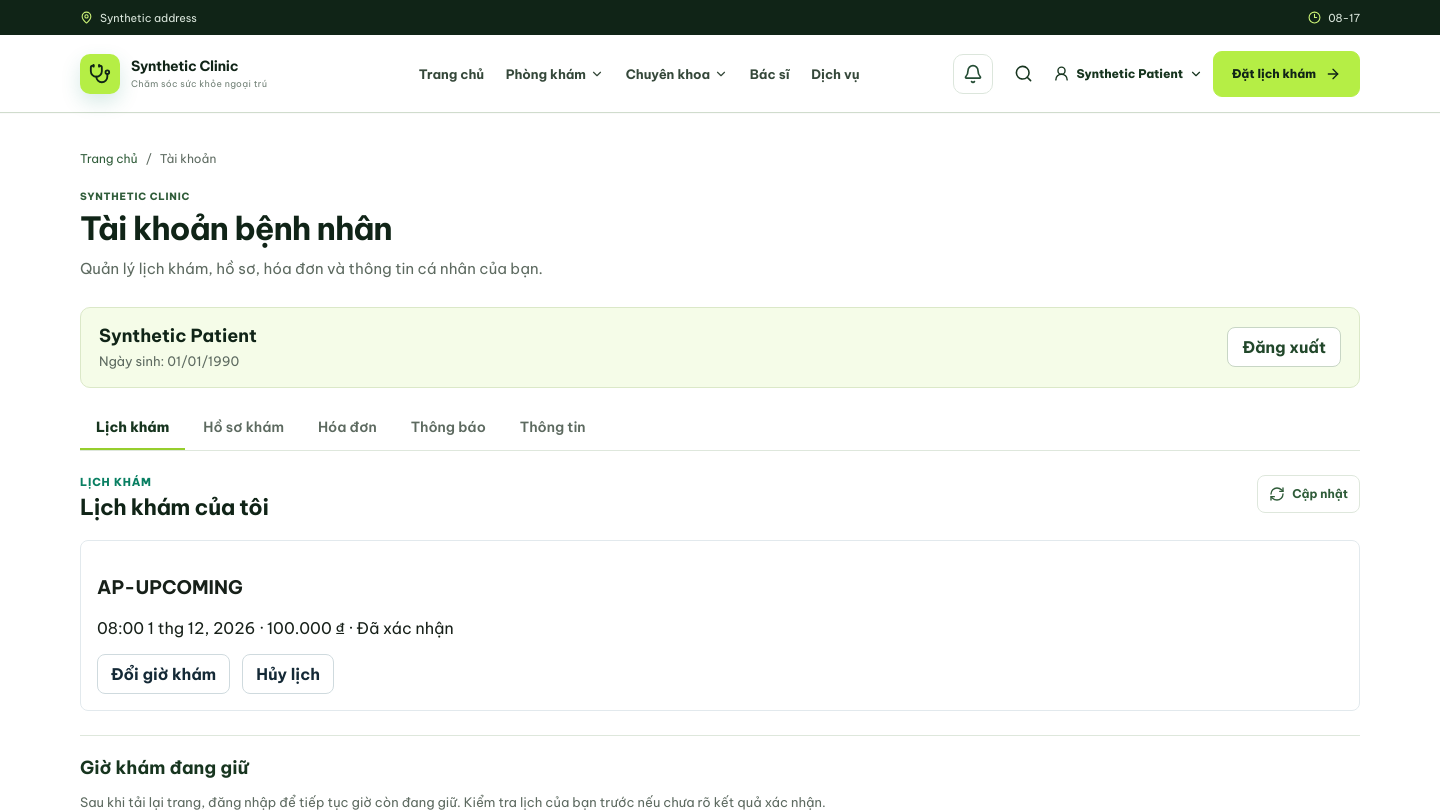
it: opens upcoming appointments first and reviews cancellation before changing server state
Expected: the button "Lịch khám" is shown, 80,406 -> 185,450
Expected: the heading "AP-UPCOMING" is shown, 97,575 -> 243,599
Click the button "Hủy lịch": (288, 674) 242,654 -> 334,694
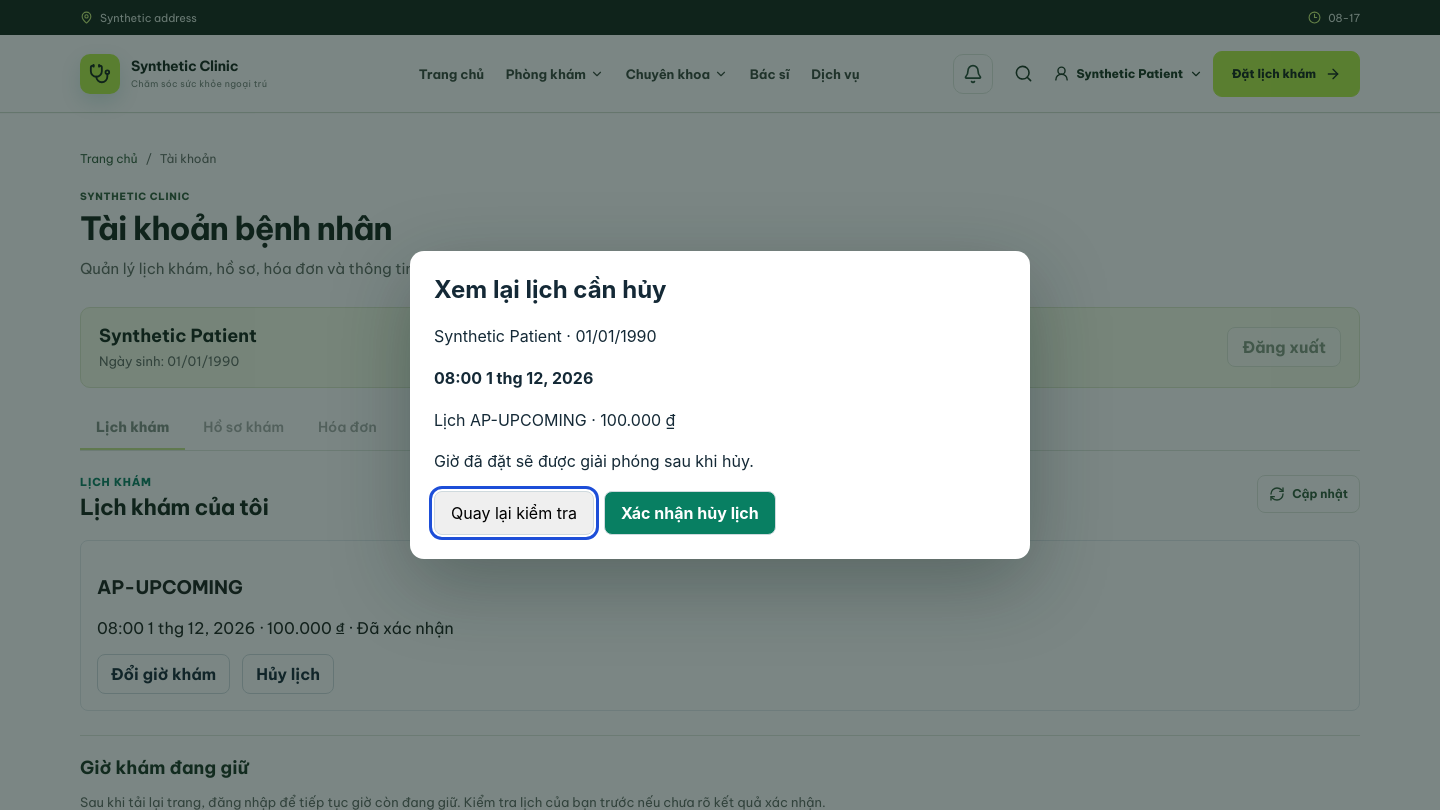
Now the dialog is shown, box 410,251 -> 1030,559
Click the button "Quay lại kiểm tra": (514, 513) 434,491 -> 594,535
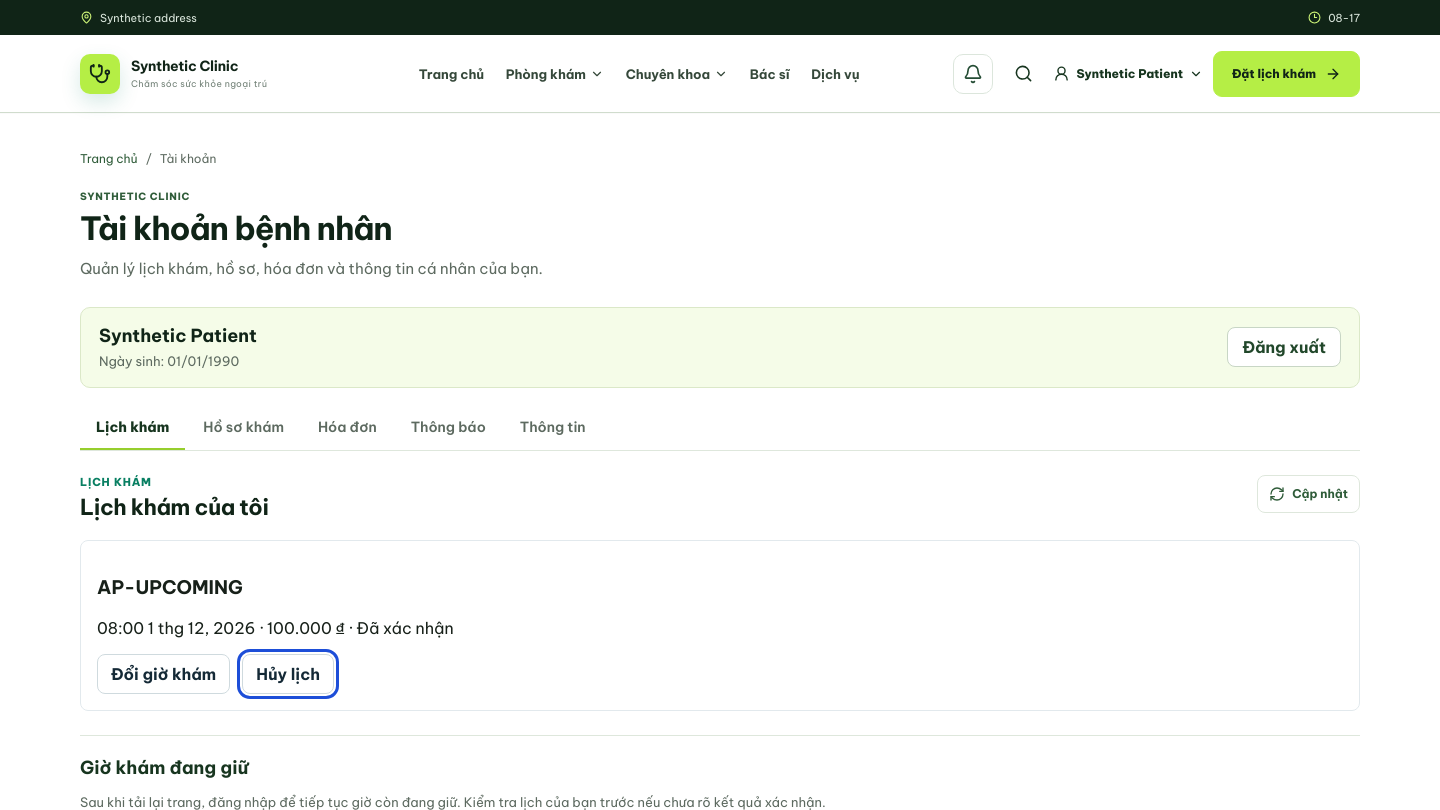
Click the button "Hủy lịch": (288, 674) 242,654 -> 334,694
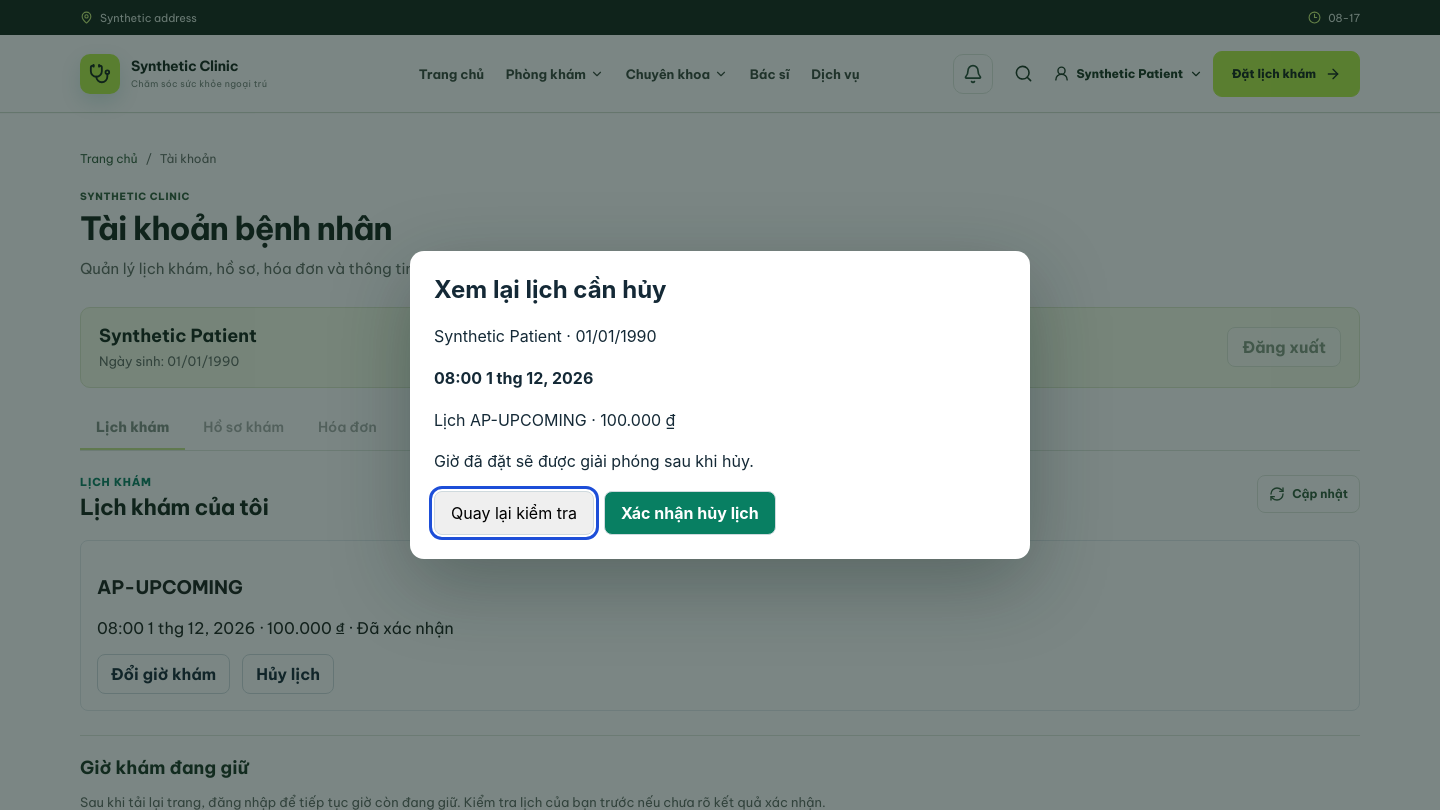
Click the button "Xác nhận hủy lịch": (690, 513) 604,491 -> 776,535
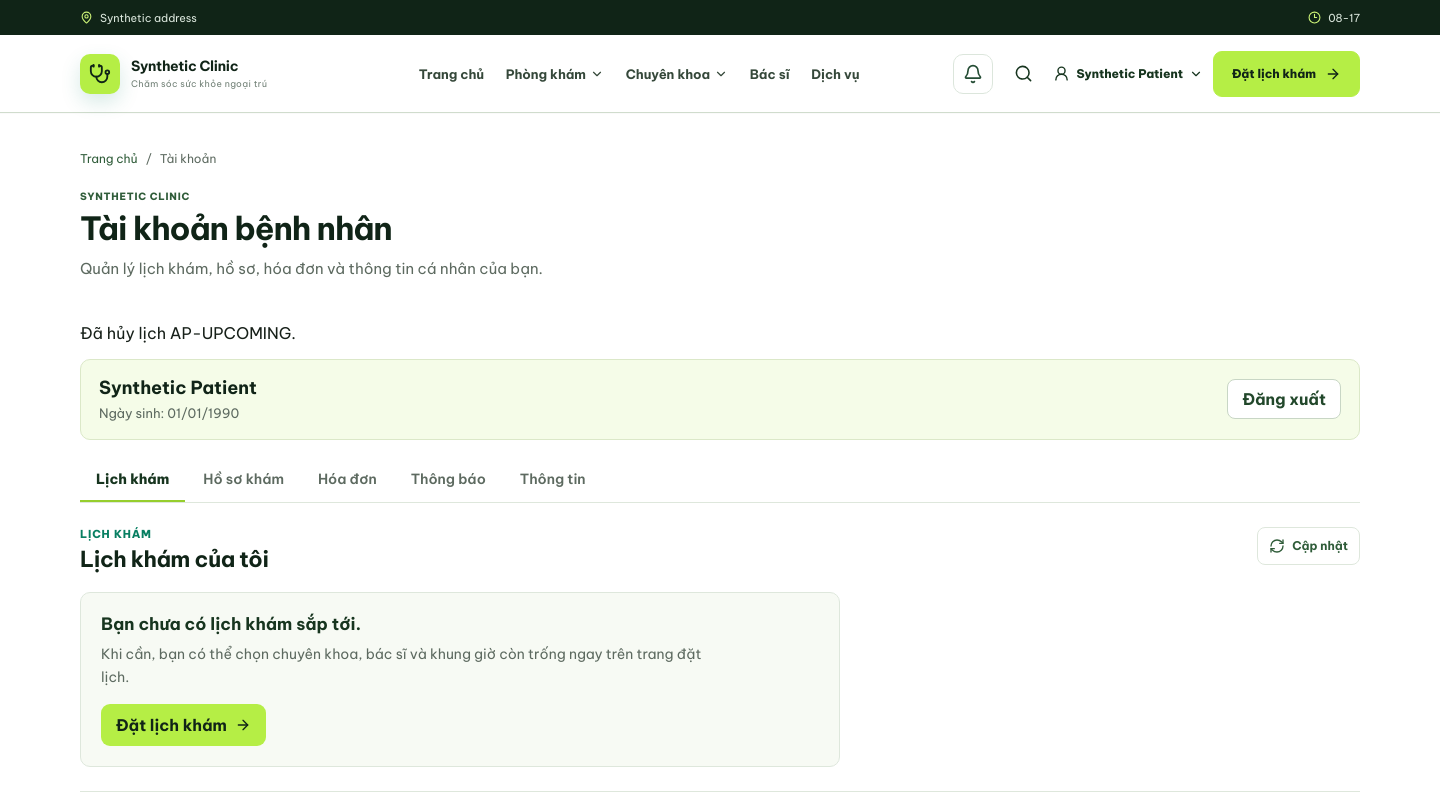
Now the text "Đã hủy lịch AP-UPCOMING." is shown, box 80,322 -> 296,342
